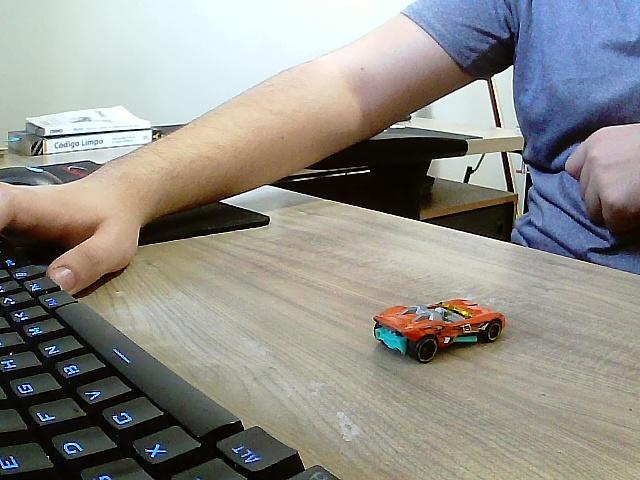Carro: (375, 300, 506, 365)
